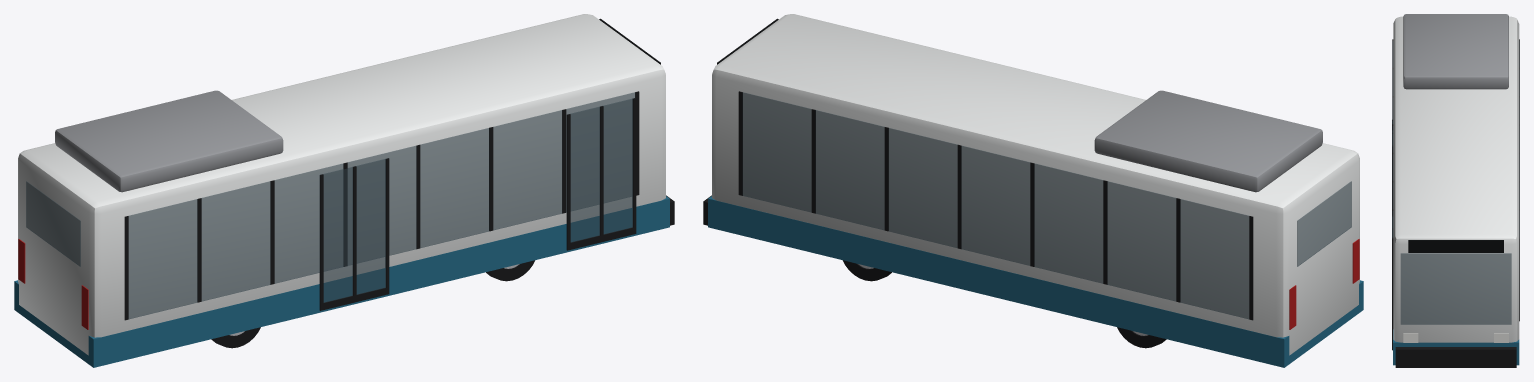
File: bus.glb
3 renders of one model, left to right at view 1: azimuth 30°, elevation 25°; view 2: azimuth 150°, elevation 25°; view 3: azimuth 270°, elevation 25°, orthographic. The views are drawn at different scales.
Parts seen in each view (by area): view 1: Body - Body paint, white, Doors - Glazing, tinted (alpha-blended), Body - Body accent, teal-blue, Body - Roof equipment, grey, Doors - Black trim, bumpers, Wheels - Tyres, Glazing and ends - Tail lamps, red; view 2: Body - Body paint, white, Doors - Glazing, tinted (alpha-blended), Body - Body accent, teal-blue, Body - Roof equipment, grey, Doors - Black trim, bumpers, Wheels - Tyres, Glazing and ends - Tail lamps, red; view 3: Body - Body paint, white, Doors - Glazing, tinted (alpha-blended), Body - Roof equipment, grey, Doors - Black trim, bumpers, Glazing and ends - Destination display, blank dark, Body - Body accent, teal-blue, Glazing and ends - Lamps, clear.
Boxes of the visible parts, bbox=[...] form: Body - Body paint, white: bbox=[18, 14, 665, 355]; Doors - Glazing, tinted (alpha-blended): bbox=[26, 92, 635, 319]; Body - Body accent, teal-blue: bbox=[14, 196, 669, 367]; Body - Roof equipment, grey: bbox=[55, 90, 283, 192]; Doors - Black trim, bumpers: bbox=[124, 91, 674, 320]; Wheels - Tyres: bbox=[211, 260, 534, 348]; Glazing and ends - Tail lamps, red: bbox=[18, 239, 88, 329]; Body - Body paint, white: bbox=[712, 14, 1359, 355]; Doors - Glazing, tinted (alpha-blended): bbox=[742, 92, 1351, 319]; Body - Body accent, teal-blue: bbox=[708, 196, 1363, 367]; Body - Roof equipment, grey: bbox=[1094, 90, 1322, 192]; Doors - Black trim, bumpers: bbox=[703, 91, 1253, 320]; Wheels - Tyres: bbox=[843, 260, 1166, 348]; Glazing and ends - Tail lamps, red: bbox=[1289, 239, 1359, 329]; Body - Body paint, white: bbox=[1393, 16, 1519, 342]; Doors - Glazing, tinted (alpha-blended): bbox=[1392, 41, 1519, 324]; Body - Roof equipment, grey: bbox=[1403, 14, 1508, 89]; Doors - Black trim, bumpers: bbox=[1392, 39, 1519, 367]; Glazing and ends - Destination display, blank dark: bbox=[1408, 240, 1503, 252]; Body - Body accent, teal-blue: bbox=[1393, 329, 1519, 365]; Glazing and ends - Lamps, clear: bbox=[1403, 333, 1508, 342].
Bounding box in the file's own units: 10.63 × 3.4 × 2.54.
